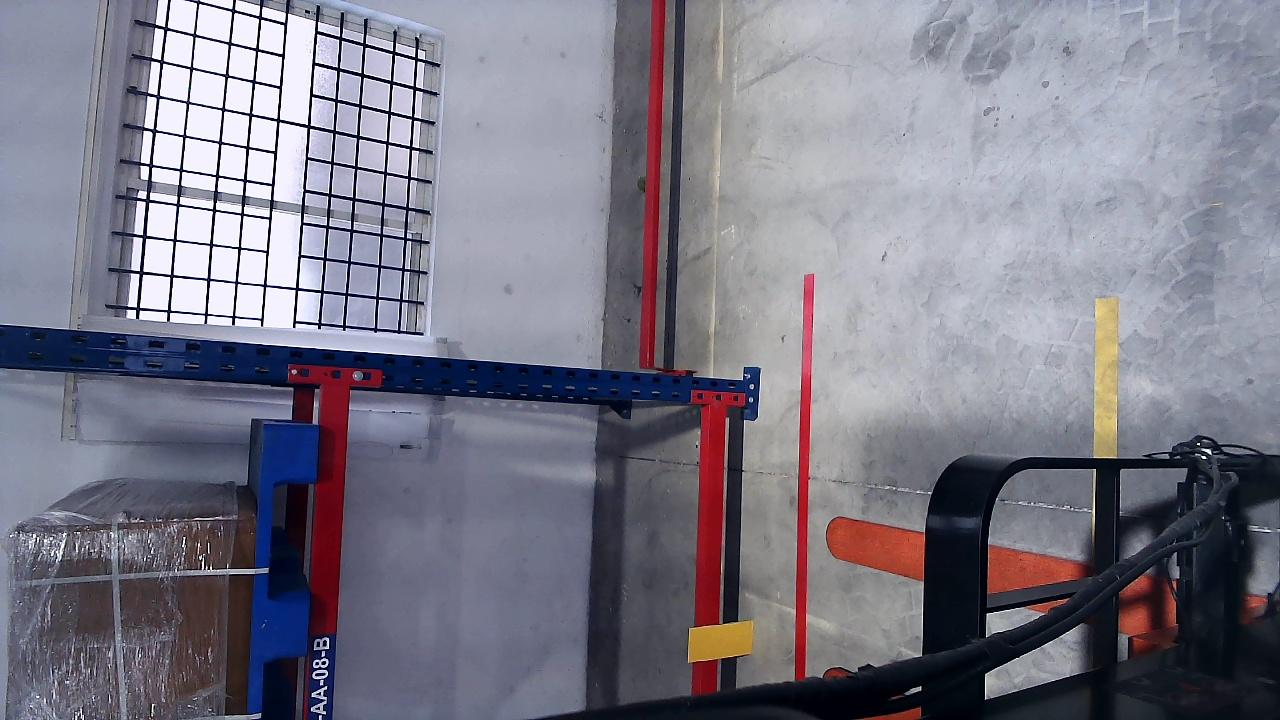h_rack: (698, 409, 721, 692), (322, 391, 336, 716)
orange_strip: (688, 620, 754, 662)
red_line: (799, 276, 810, 680)
small_pallet: (253, 425, 320, 714)
yellow_line: (1092, 296, 1120, 456)
